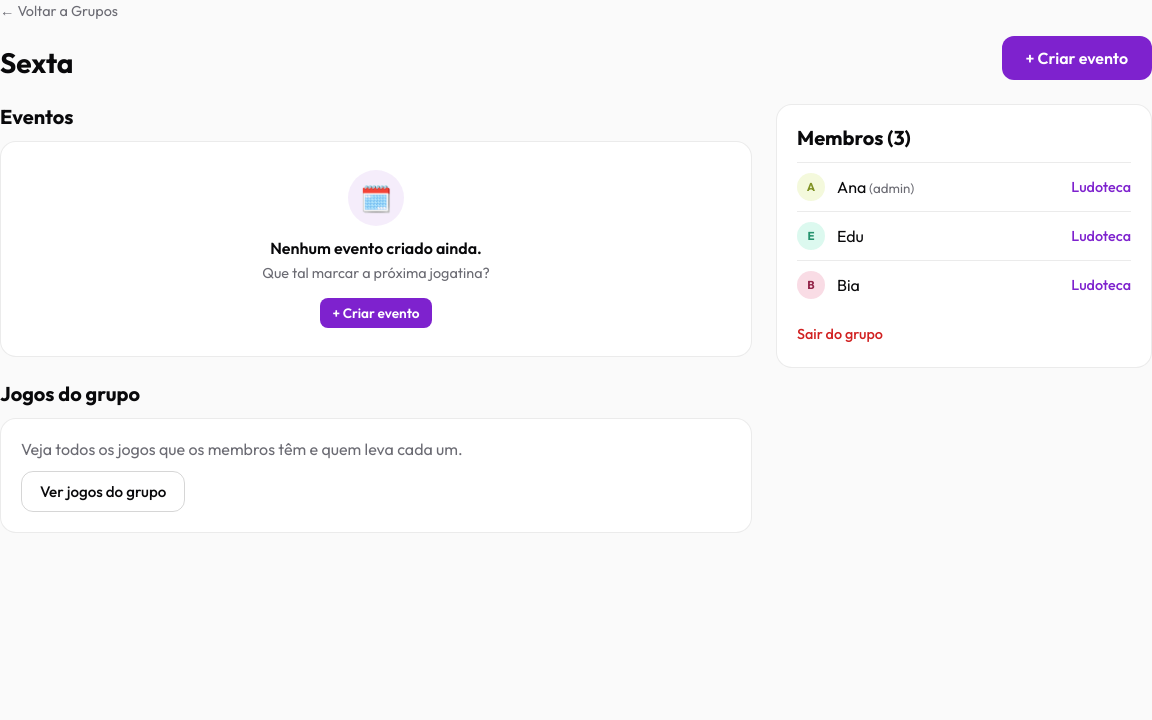
Test: Grupo — sair › cancelar não sai
Expected: the heading "Sexta" is shown, [0,46,73,80]
Click the button "Sair do grupo": point(840, 334) [797,321,883,347]
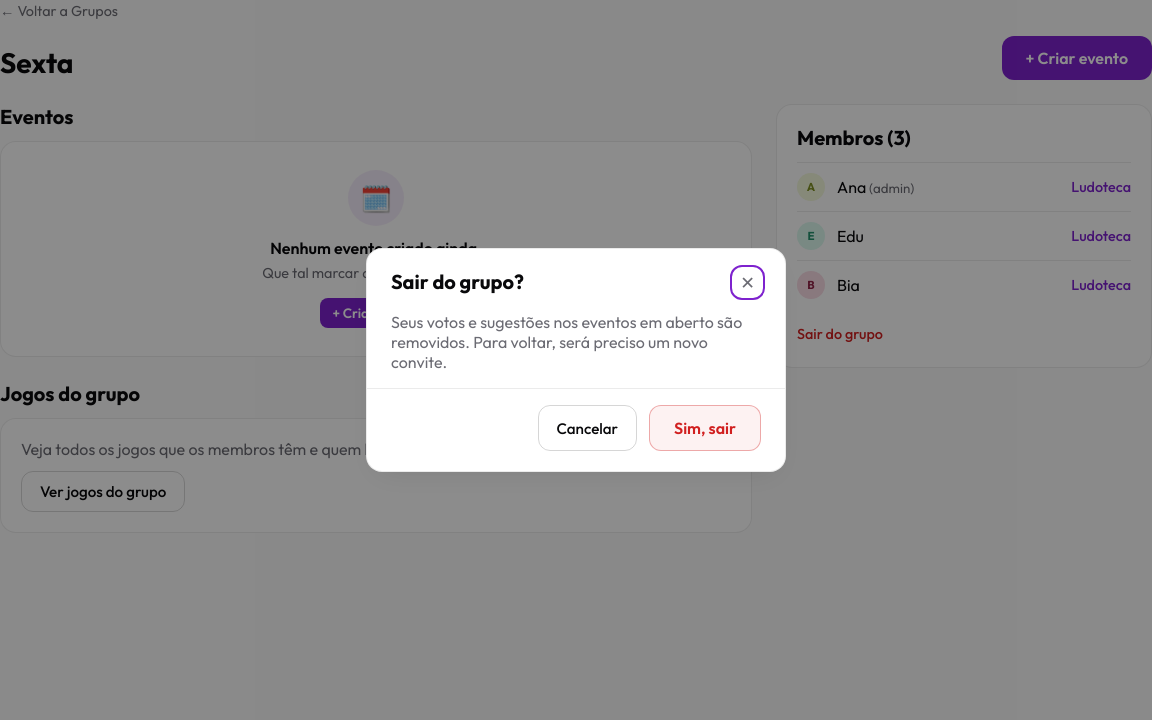
Click the button "Cancelar": point(587, 428) [538,405,637,451]
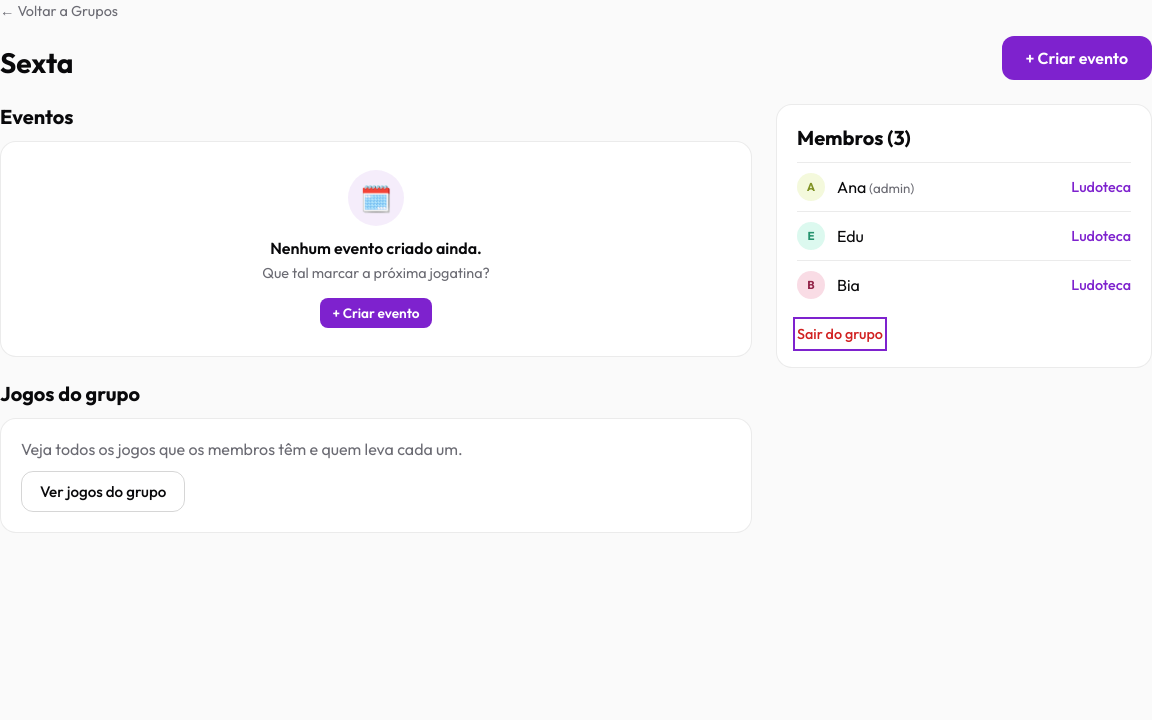
Result: the dialog is gone
